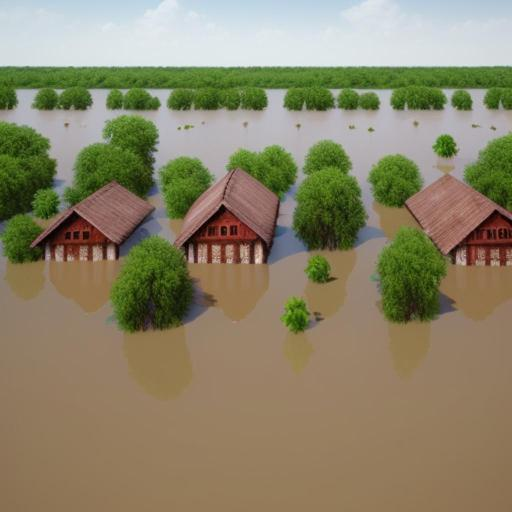flood: (0, 238, 512, 512), (0, 88, 512, 296), (119, 192, 183, 257)
house: (174, 168, 282, 263), (28, 182, 158, 260), (414, 173, 512, 266)
